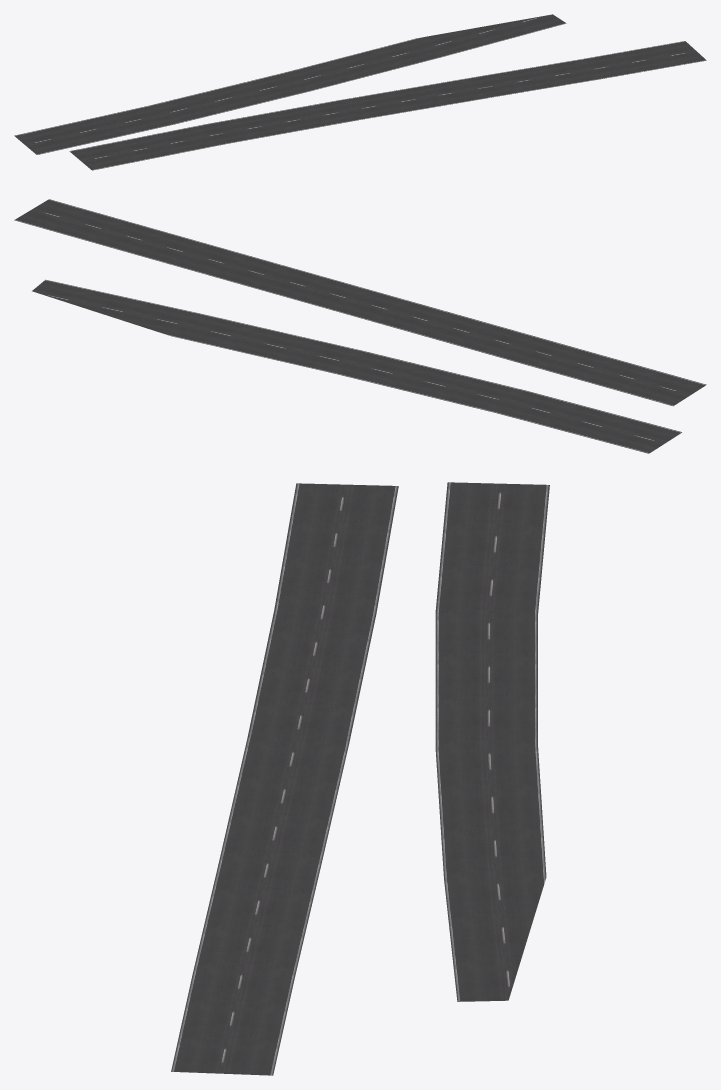
File: cs_roads26.obj
3 views of the same model, one above another, from view 1: azimuth 30°, elevation 25°; view 2: azimuth 150°, elevation 25°; view 3: azimuth 270°, elevation 25° (orthographic). The views are drawn at different scales.
Parts seen in each view (by area): view 1: cs_roads26; view 2: cs_roads26; view 3: cs_roads26.
Part boxes in pixels (bbox=[...]): cs_roads26: bbox=[14, 14, 706, 170]; cs_roads26: bbox=[14, 199, 706, 453]; cs_roads26: bbox=[171, 482, 549, 1075].
Bounding box in the file's own units: 163 × 2.44 × 44.33.
2 materials, 2 textured.
